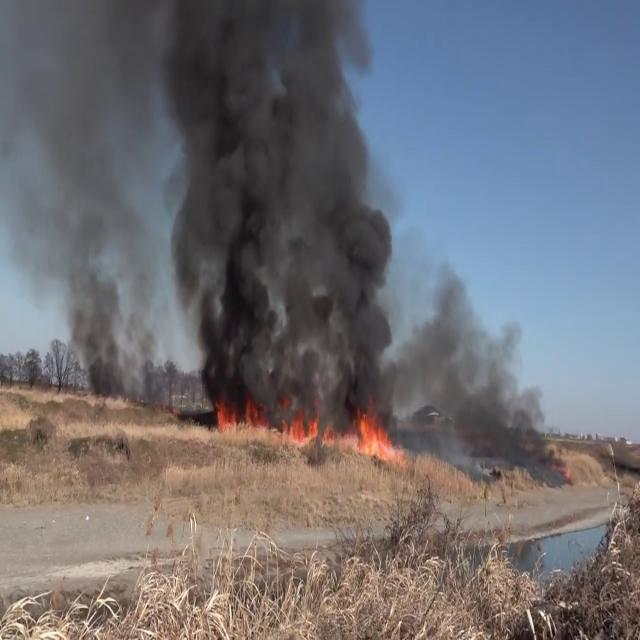Fire: (210, 384, 324, 442), (350, 399, 400, 463)
Smoke: (152, 1, 401, 401), (0, 1, 163, 383), (396, 256, 570, 471)
